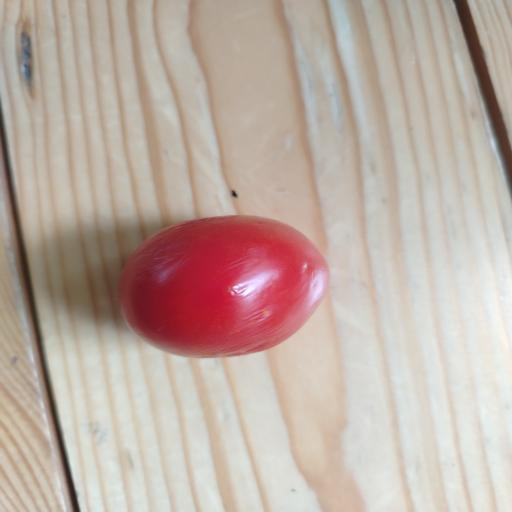overipe: (119, 215, 329, 357)
